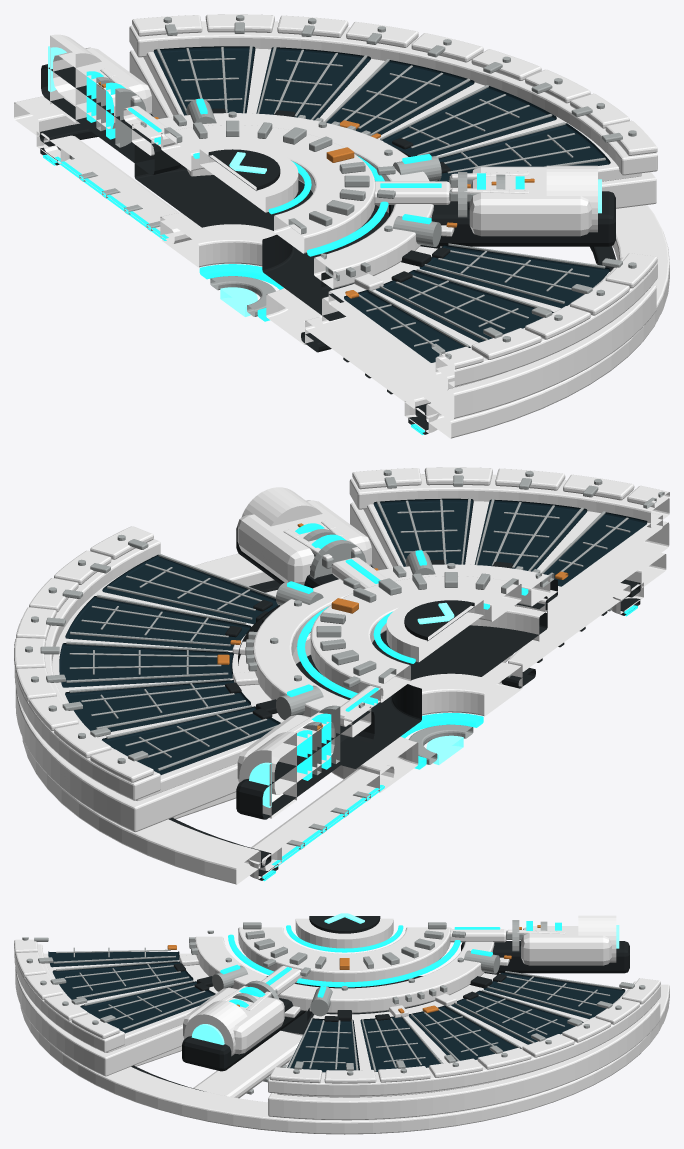
Rendered from solar_service_station.glb.
The picture shows the model from 3 angles, top to bottom: view 1: azimuth 30°, elevation 25°; view 2: azimuth 150°, elevation 25°; view 3: azimuth 270°, elevation 25°; orthographic projection. The views are drawn at different scales.
Parts seen in each view (by area): view 1: WingLowerFrame_2_V8, WingOuterArmor_3_V8, VentralOuterRing_V8, CoreInnerArmor_V8, CoreLowerMachine_V8, CoreOuterArmor_V8, EmitterArmor_3_V8, VentralCoreArmor_V8, SolarCell_2_4_V8, SolarCell_3_1_V8, SolarCell_2_3_V8, SolarCell_3_3_V8 (+42 smaller); view 2: VentralOuterRing_V8, CoreInnerArmor_V8, CoreOuterArmor_V8, CoreLowerMachine_V8, WingLowerFrame_3_V8, WingLowerFrame_2_V8, VentralCoreArmor_V8, SolarCell_3_2_V8, SolarCell_3_1_V8, SolarCell_3_3_V8, SolarCell_3_0_V8, WingOuterArmor_3_V8 (+39 smaller); view 3: VentralOuterRing_V8, WingLowerFrame_3_V8, CoreOuterArmor_V8, CoreInnerArmor_V8, WingOuterArmor_3_V8, WingLowerFrame_2_V8, EmitterArmor_1_V8, SolarCell_2_3_V8, VentralPowerTrunk_2_V8, SolarCell_3_4_V8, SolarCell_2_4_V8, SolarCell_3_3_V8 (+36 smaller).
Part boxes in pixels (box(x1,y1,x2,y2)): WingLowerFrame_2_V8: box(322, 285, 656, 418); WingOuterArmor_3_V8: box(129, 21, 657, 175); VentralOuterRing_V8: box(14, 96, 669, 438); CoreInnerArmor_V8: box(161, 125, 375, 253); CoreLowerMachine_V8: box(134, 145, 388, 320); CoreOuterArmor_V8: box(132, 113, 433, 288); EmitterArmor_3_V8: box(469, 166, 591, 236); VentralCoreArmor_V8: box(160, 212, 321, 344); SolarCell_2_4_V8: box(419, 245, 609, 308); SolarCell_3_1_V8: box(381, 86, 556, 156); SolarCell_2_3_V8: box(376, 270, 553, 342); SolarCell_3_3_V8: box(256, 47, 370, 120); VentralOuterRing_V8: box(22, 553, 666, 884); CoreInnerArmor_V8: box(310, 576, 521, 702); CoreOuterArmor_V8: box(253, 564, 550, 737); CoreLowerMachine_V8: box(296, 596, 547, 768); WingLowerFrame_3_V8: box(15, 633, 310, 832); WingLowerFrame_2_V8: box(350, 502, 669, 641); VentralCoreArmor_V8: box(331, 662, 522, 792); SolarCell_3_2_V8: box(59, 643, 233, 687); SolarCell_3_1_V8: box(65, 596, 251, 650); SolarCell_3_3_V8: box(65, 680, 250, 731); SolarCell_3_0_V8: box(102, 555, 278, 624); WingOuterArmor_3_V8: box(14, 539, 160, 800); VentralOuterRing_V8: box(20, 984, 669, 1134); WingLowerFrame_3_V8: box(268, 1002, 660, 1120); CoreOuterArmor_V8: box(195, 936, 494, 1013); CoreInnerArmor_V8: box(238, 927, 451, 982); WingOuterArmor_3_V8: box(268, 981, 660, 1096); WingLowerFrame_2_V8: box(15, 967, 184, 1076); EmitterArmor_1_V8: box(521, 926, 611, 965); SolarCell_2_3_V8: box(52, 961, 193, 1000); VentralPowerTrunk_2_V8: box(193, 1030, 302, 1098); SolarCell_3_4_V8: box(483, 972, 625, 1018); SolarCell_2_4_V8: box(80, 981, 215, 1033); SolarCell_3_3_V8: box(451, 990, 583, 1044).
Bounding box in the file's own units: 7.83 × 2.76 × 15.53.
